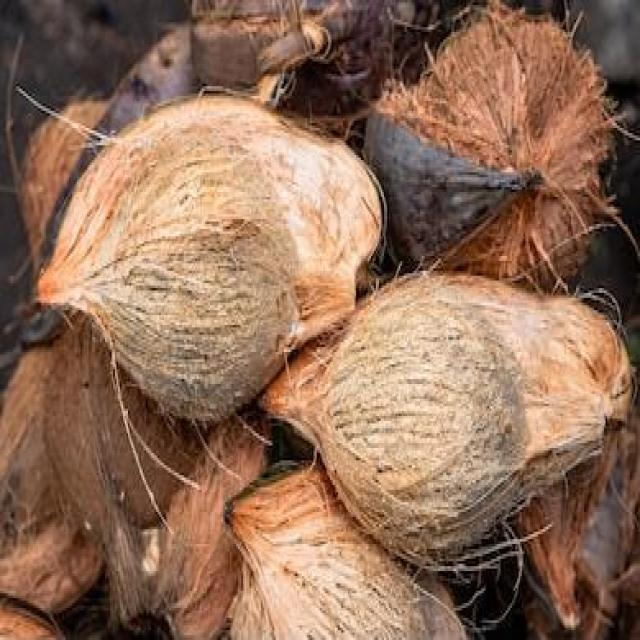coconut: (328, 271, 614, 552), (97, 145, 291, 428)
